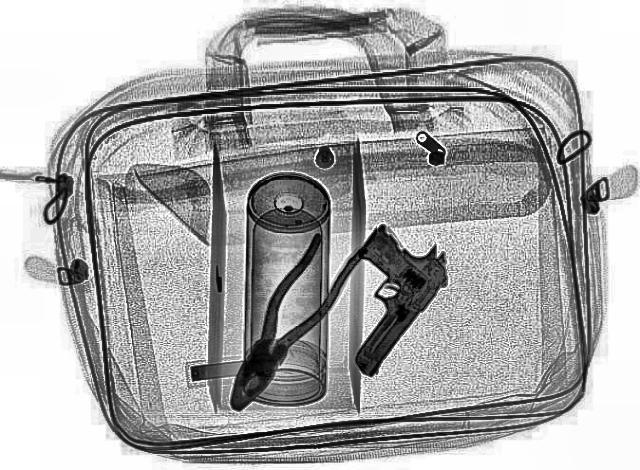Gun: (285, 221, 467, 377)
Pliers: (205, 230, 369, 418)
